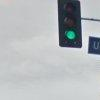Traffic light: (50, 0, 100, 65)
